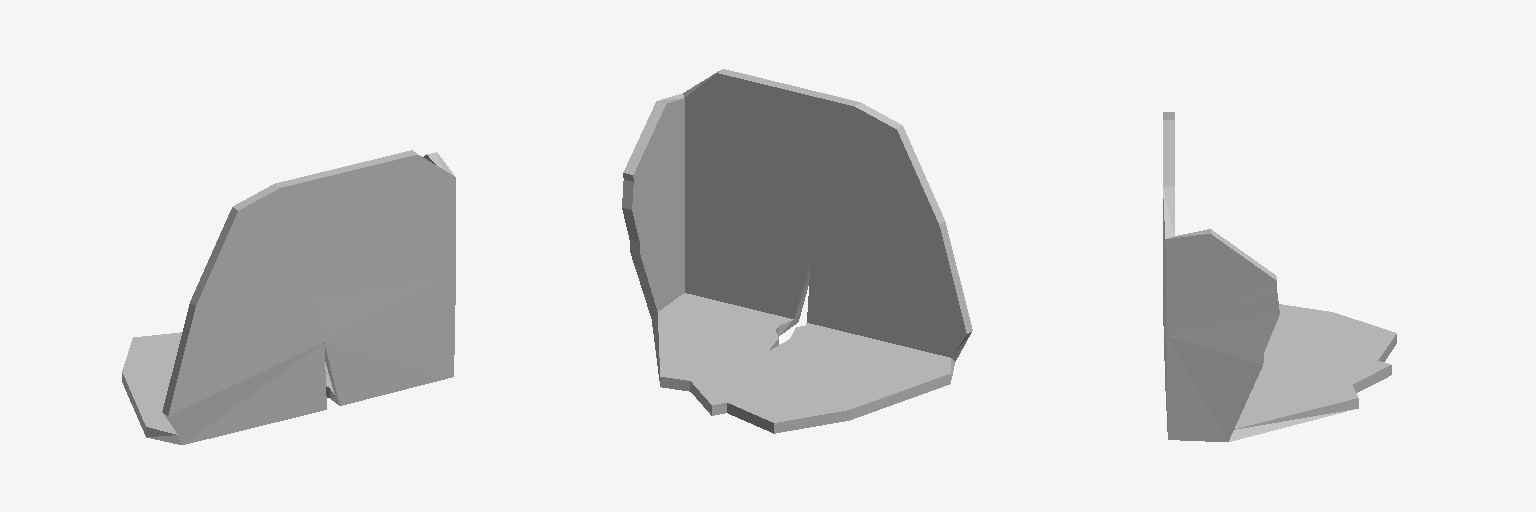
The model's file is room3part1.obj.
3 renders of one model, left to right at view 1: azimuth 30°, elevation 25°; view 2: azimuth 150°, elevation 25°; view 3: azimuth 270°, elevation 25°, orthographic.
Bounding box in the file's own units: 2.88 × 2.24 × 1.99.